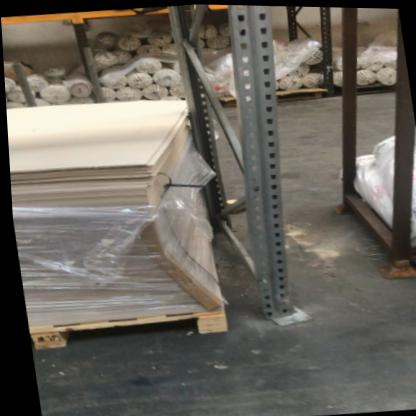vertical_damage: (251, 285, 316, 332)
